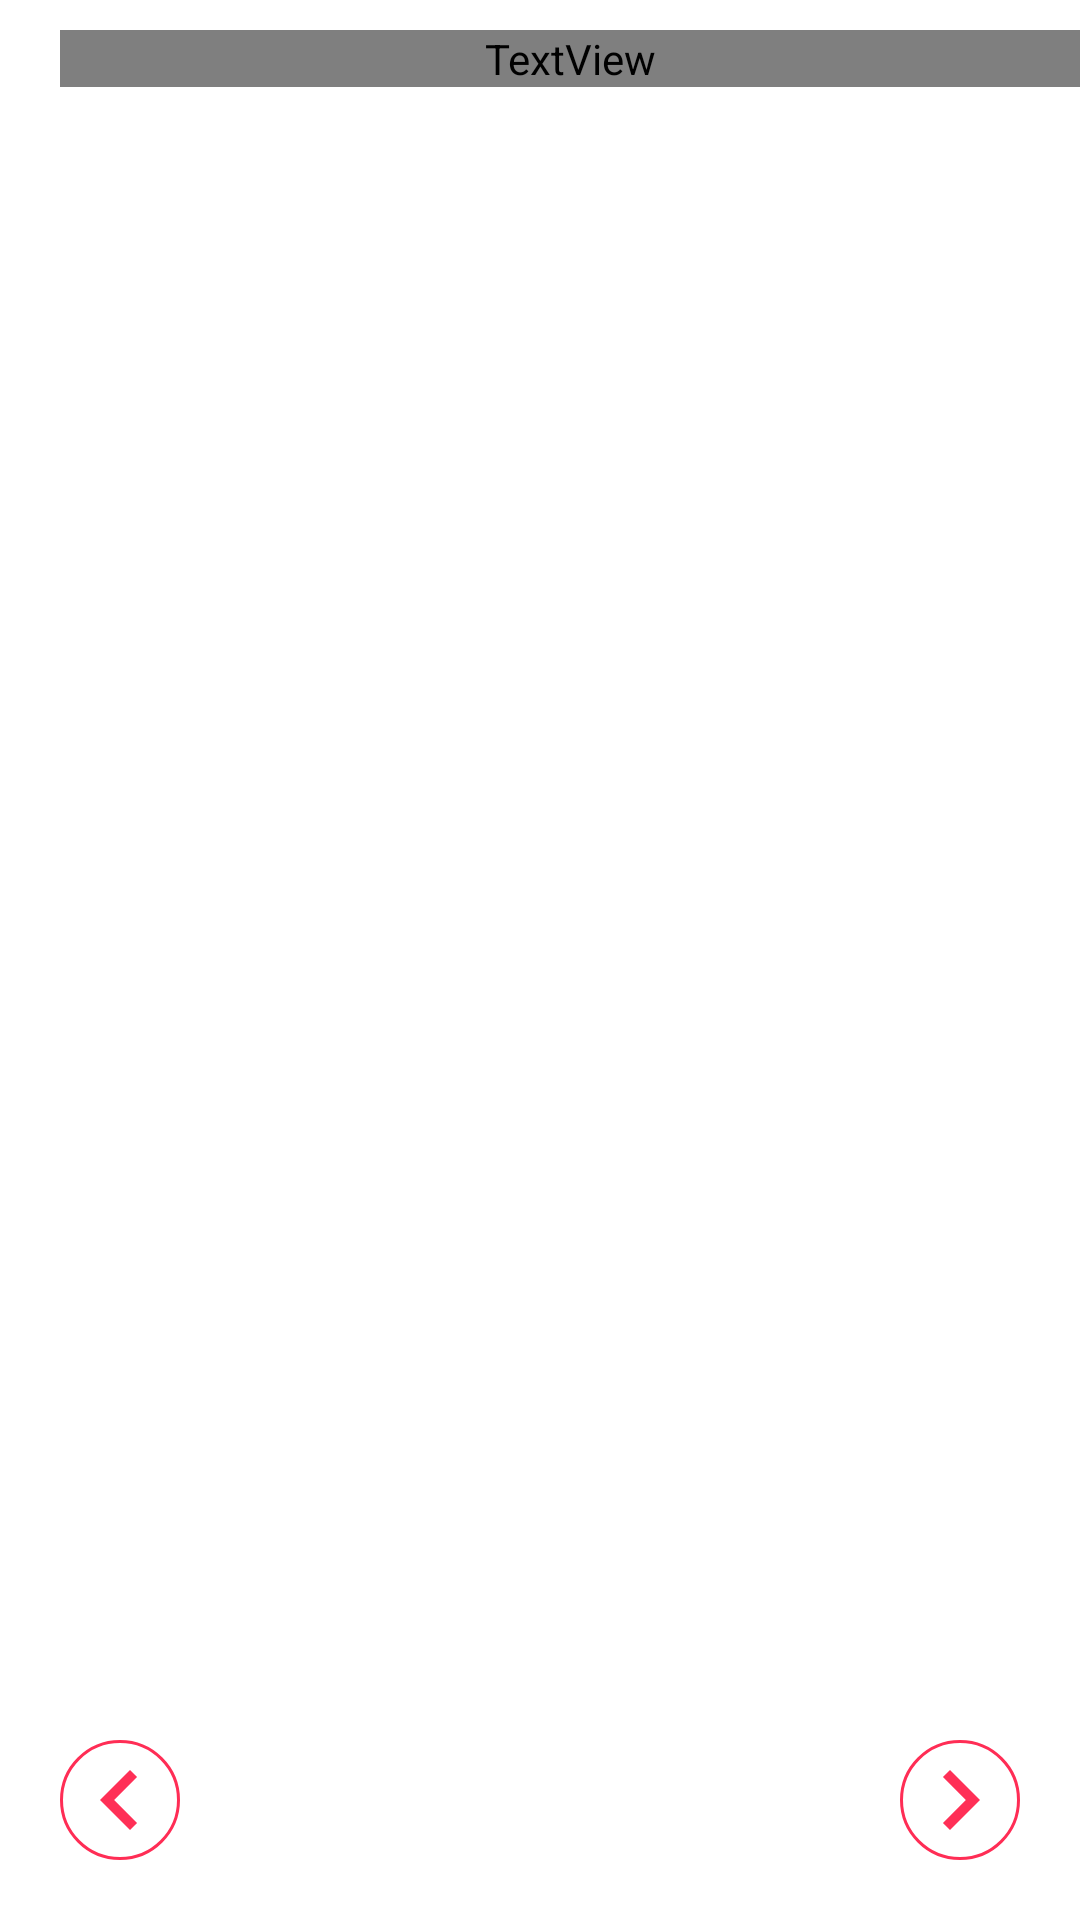

Screen size 1080×1920. Icon name, then its center in pixels as (x,y):
chevron left: (120,1800)
chevron right: (960,1800)
